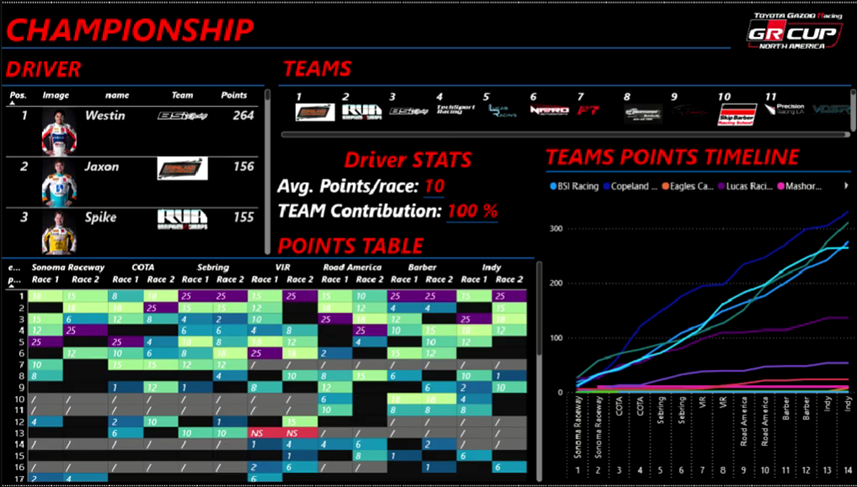

The dashboard page shown, as its layout file describes it:
{"tool":"powerbi","page":{"name":"Chamiponship","canvas":[1280,720],"ordinal":0},"visuals":[{"type":"image","box":[1087.8,0,192.2,82.2],"z":0},{"type":"pivotTable","fields":{"Rows":["t_driver_summary.position"],"Values":["Min(t_points_table.points)"],"Columns":["event_to_order.event_name","t_event_info.meta_session_name"]},"box":[0,380.5,812.2,339.5],"z":1000},{"type":"tableEx","fields":{"Values":["t_driver_summary.position1","t_driver_summary.driver_image_url","t_driver_summary.name","t_team_info.team_image_url","t_driver_summary.total_points"]},"box":[0,123.6,406.4,257.3],"z":2000},{"type":"pivotTable","fields":{"Columns":["t_team_info.SeasonTeamRank","t_team_info.team_image_url"]},"box":[412,123,868,82],"z":3000},{"type":"textbox","box":[0,70,480,54],"z":4000},{"type":"textbox","box":[413.2,69,480.4,54.3],"z":5000},{"type":"textbox","box":[406.3,338.1,304.5,43.1],"z":6000},{"type":"shape","box":[0,112.7,391.8,20],"z":7000},{"type":"shape","box":[412.7,112.7,854.5,20],"z":8000},{"type":"shape","box":[0,370.9,795.3,19],"z":9000},{"type":"textbox","box":[0,0,464.4,76.7],"z":10000},{"type":"shape","box":[0,56.9,1087.7,19.2],"z":11000},{"type":"textbox","box":[406.3,205.3,398.5,132.8],"z":12000},{"type":"lineChart","fields":{"Y":["d_team_points.cum_pointsNum"],"Series":["d_team_points.team_name"],"Category":["d_team_points.event_uuid","d_team_points.meta_event_name"]},"box":[811.8,252.7,468.2,467.3],"z":13000},{"type":"textbox","box":[804.7,205.3,395.9,43.1],"z":14000},{"type":"shape","box":[812.5,241.5,455.4,19.8],"z":15000}]}

Visuals, with their boxes in screenshot pixels (x1, y1, x2, y2), scaled from the page's 1280x720 canvas onto the 857x487 screenshot:
image: box=[728, 0, 856, 56]
pivotTable - t_driver_summary.position x Min(t_points_table.points): box=[0, 257, 544, 486]
tableEx - t_driver_summary.position1 x t_driver_summary.driver_image_url: box=[0, 84, 272, 258]
pivotTable - t_team_info.SeasonTeamRank x t_team_info.team_image_url: box=[276, 83, 856, 139]
textbox: box=[0, 47, 321, 84]
textbox: box=[277, 47, 598, 83]
textbox: box=[272, 229, 476, 258]
shape: box=[0, 76, 262, 90]
shape: box=[276, 76, 848, 90]
shape: box=[0, 251, 532, 264]
textbox: box=[0, 0, 311, 52]
shape: box=[0, 38, 728, 51]
textbox: box=[272, 139, 539, 229]
lineChart - d_team_points.cum_pointsNum x d_team_points.team_name: box=[544, 171, 856, 486]
textbox: box=[539, 139, 804, 168]
shape: box=[544, 163, 849, 177]
